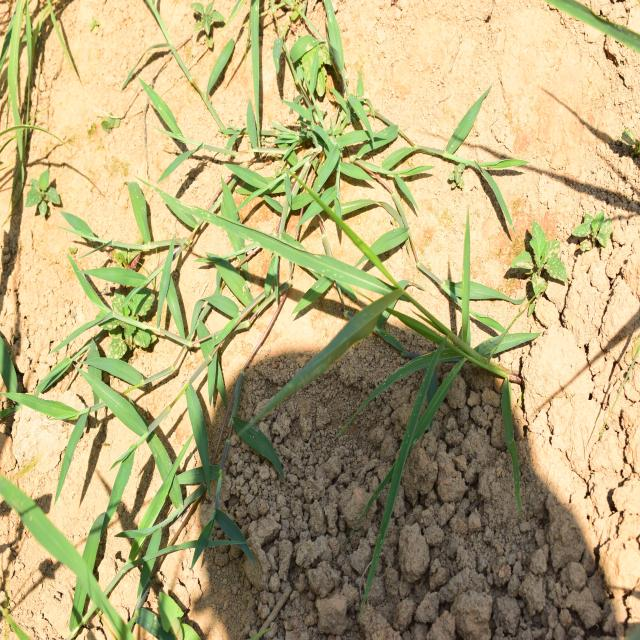green_foxtail: (298, 222, 512, 459)
